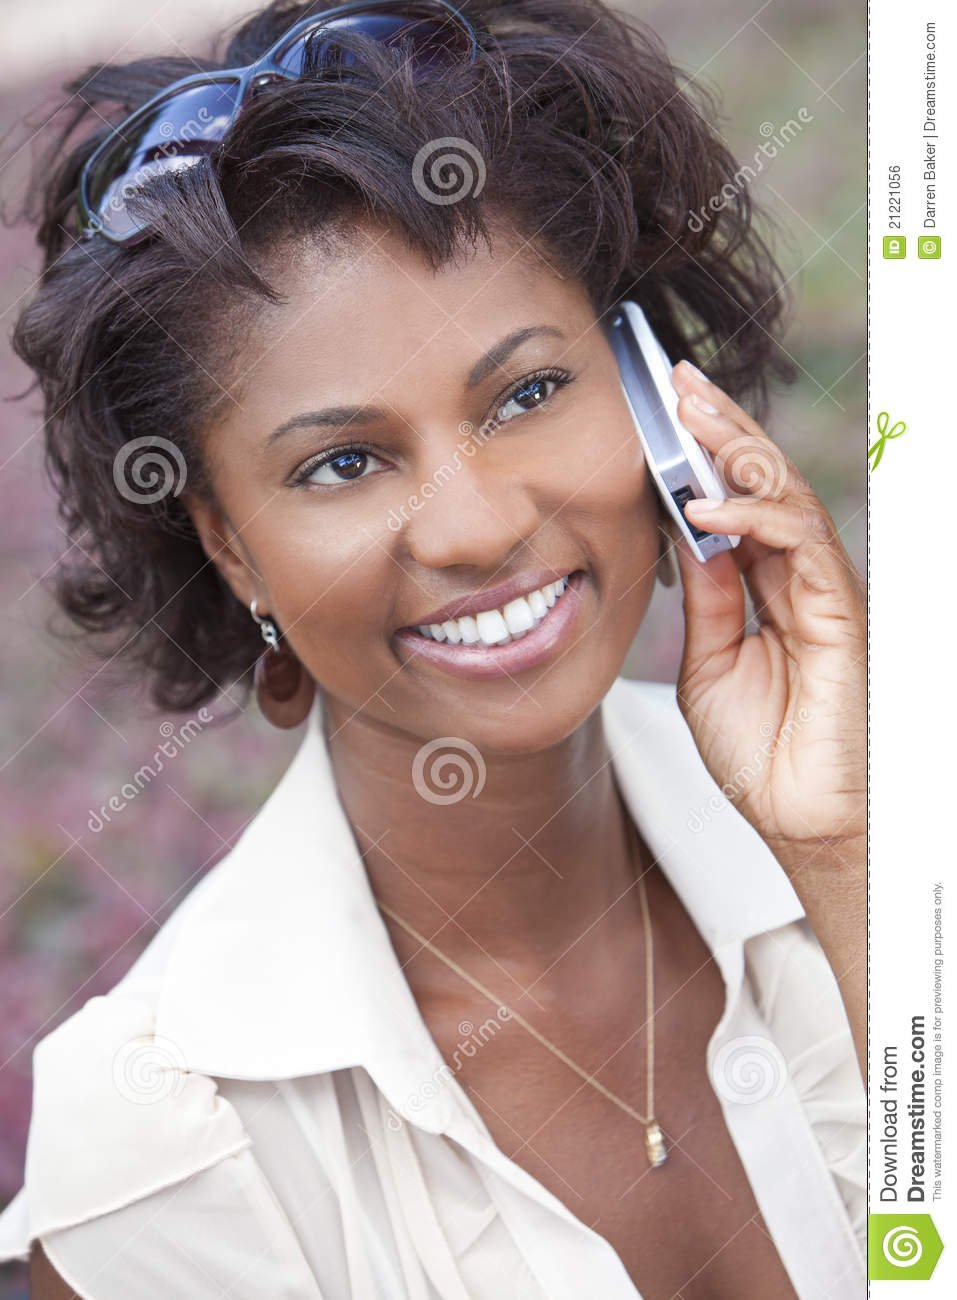phone: (598, 294, 742, 566)
talk: (235, 276, 868, 828)
